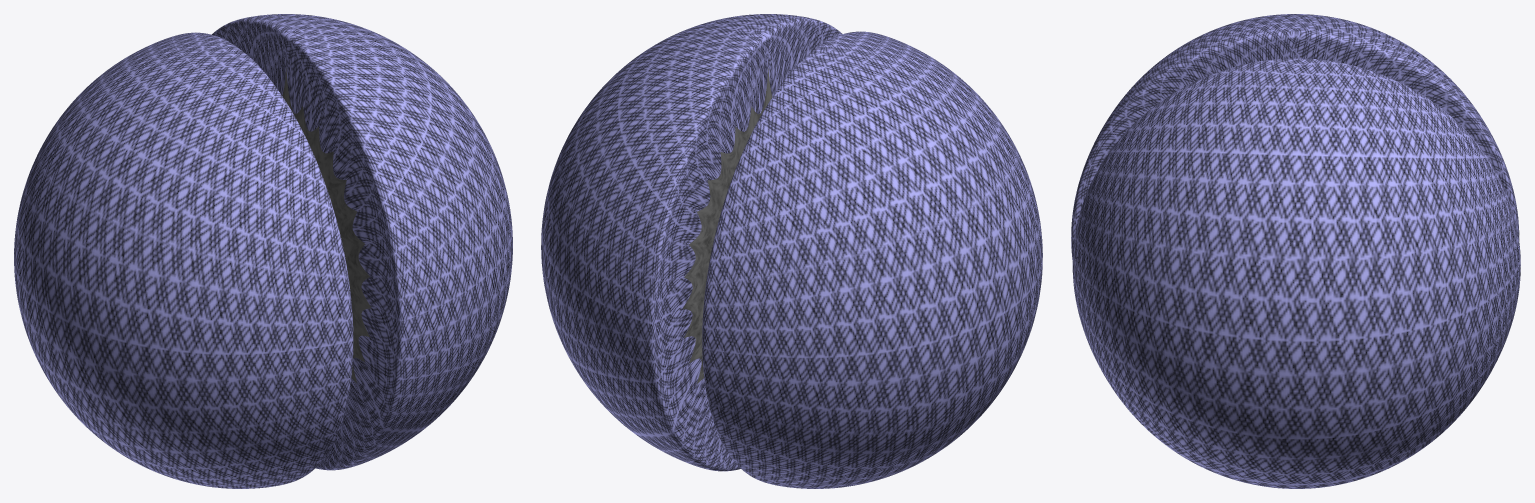
The model's file is core.fbx.
The picture shows the model from 3 angles, left to right: view 1: azimuth 30°, elevation 25°; view 2: azimuth 150°, elevation 25°; view 3: azimuth 270°, elevation 25°; orthographic projection. The views are drawn at different scales.
Parts seen in each view (by area): view 1: Core; view 2: Core; view 3: Core.
Part boxes in pixels (x1,y1,x2,y2): Core: [14, 14, 512, 488]; Core: [541, 14, 1042, 488]; Core: [1071, 14, 1520, 488].
Size of the model in its own units: 217 by 199 by 196.
